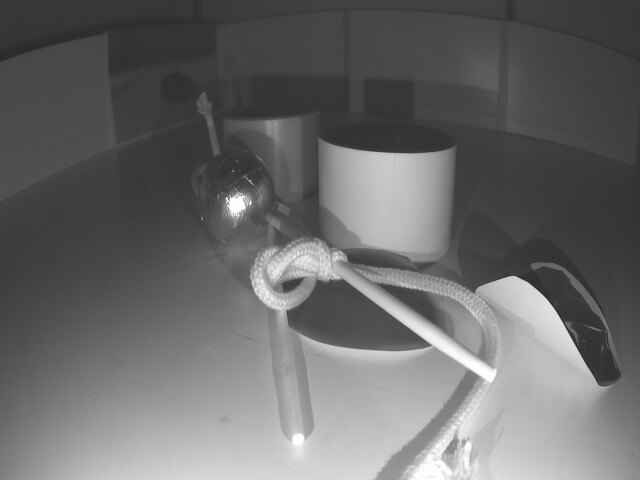Live: (197, 151, 269, 238)
